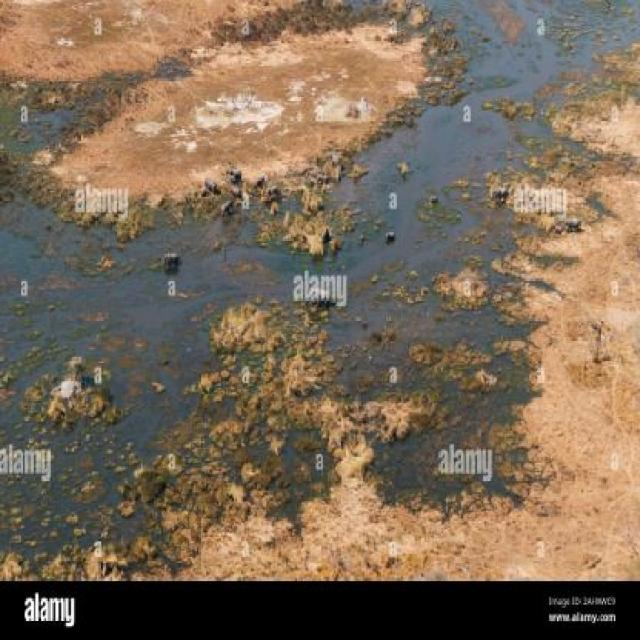elephant: (307, 286, 338, 309), (486, 186, 509, 206), (329, 150, 348, 172), (162, 252, 181, 273), (314, 170, 335, 188), (204, 173, 218, 195), (218, 202, 237, 218), (226, 162, 243, 178), (250, 171, 265, 187), (228, 184, 241, 201), (262, 183, 278, 194), (386, 231, 397, 246), (228, 171, 238, 184), (426, 194, 439, 203), (322, 228, 327, 246), (382, 287, 383, 288)
